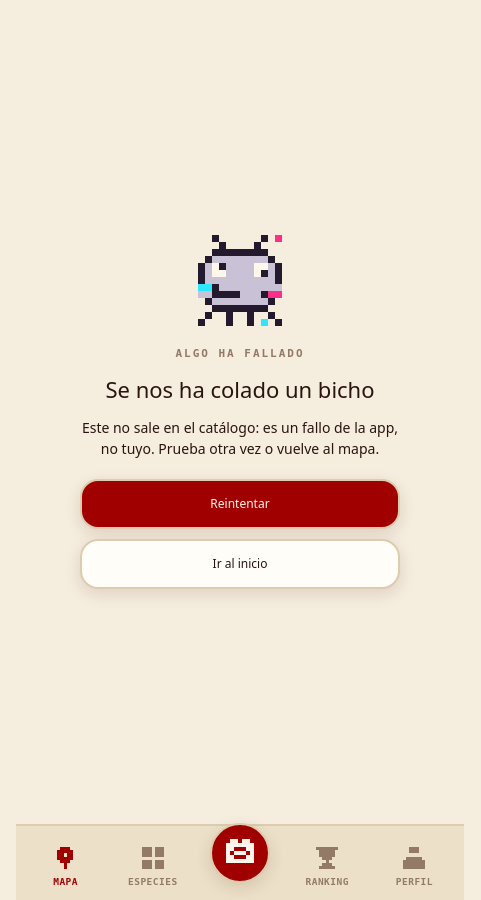
Test: shell navigation › the central button opens the hunt flow
What coordinates should you click on to do the following:
click the button named "Cazar"
I would click on:
 (240, 849)
Its box is [196,812,284,886].
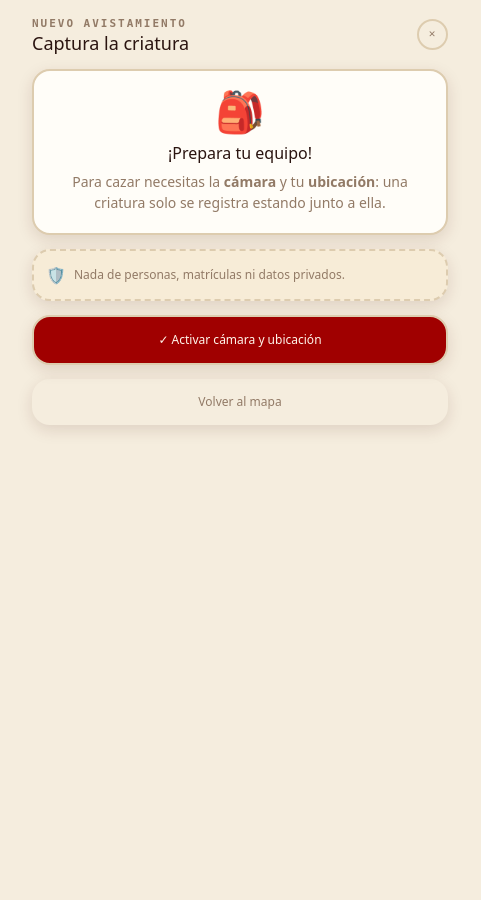
Now the text "Nuevo avistamiento" is shown, box [32,16,189,32]
